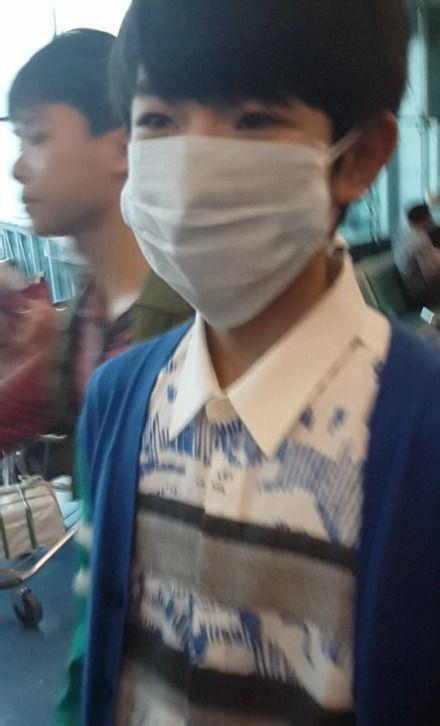NONE: (7, 116, 125, 231)
OK: (117, 76, 348, 307)
